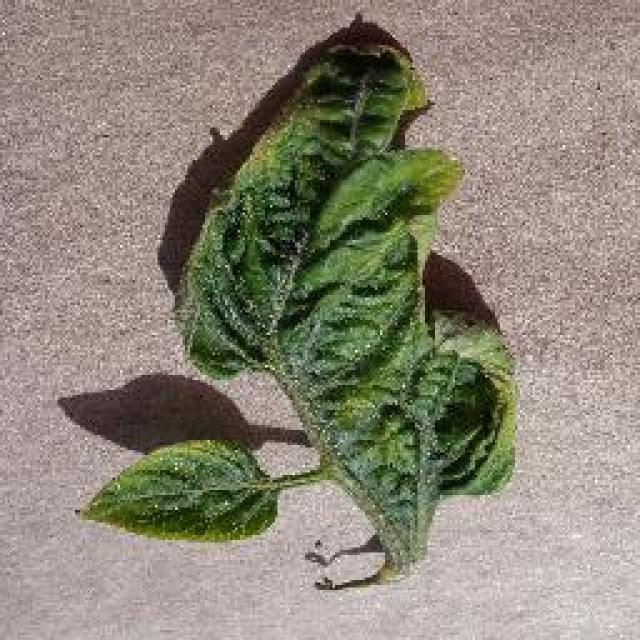Tomato yellow virus leaf: (175, 36, 526, 558), (78, 440, 276, 545)
